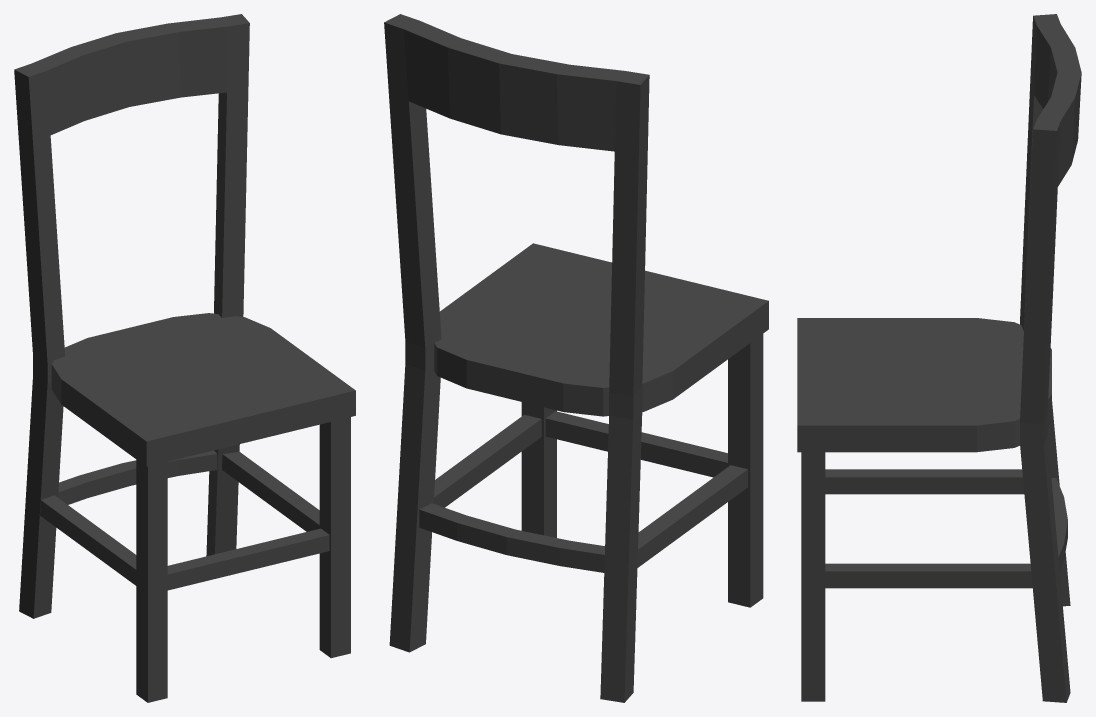
The model's file is SM_Props_Cafe_05.fbx.
The picture shows the model from 3 angles, left to right: view 1: azimuth 30°, elevation 25°; view 2: azimuth 150°, elevation 25°; view 3: azimuth 270°, elevation 25°; orthographic projection. The views are drawn at different scales.
Parts seen in each view (by area): view 1: SM_Props_Cafe_05; view 2: SM_Props_Cafe_05; view 3: SM_Props_Cafe_05.
Part boxes in pixels (bbox=[...]): SM_Props_Cafe_05: bbox=[14, 14, 355, 702]; SM_Props_Cafe_05: bbox=[384, 14, 768, 702]; SM_Props_Cafe_05: bbox=[797, 14, 1081, 702].
Bounding box in the file's own units: 43.51 × 100 × 44.67.
